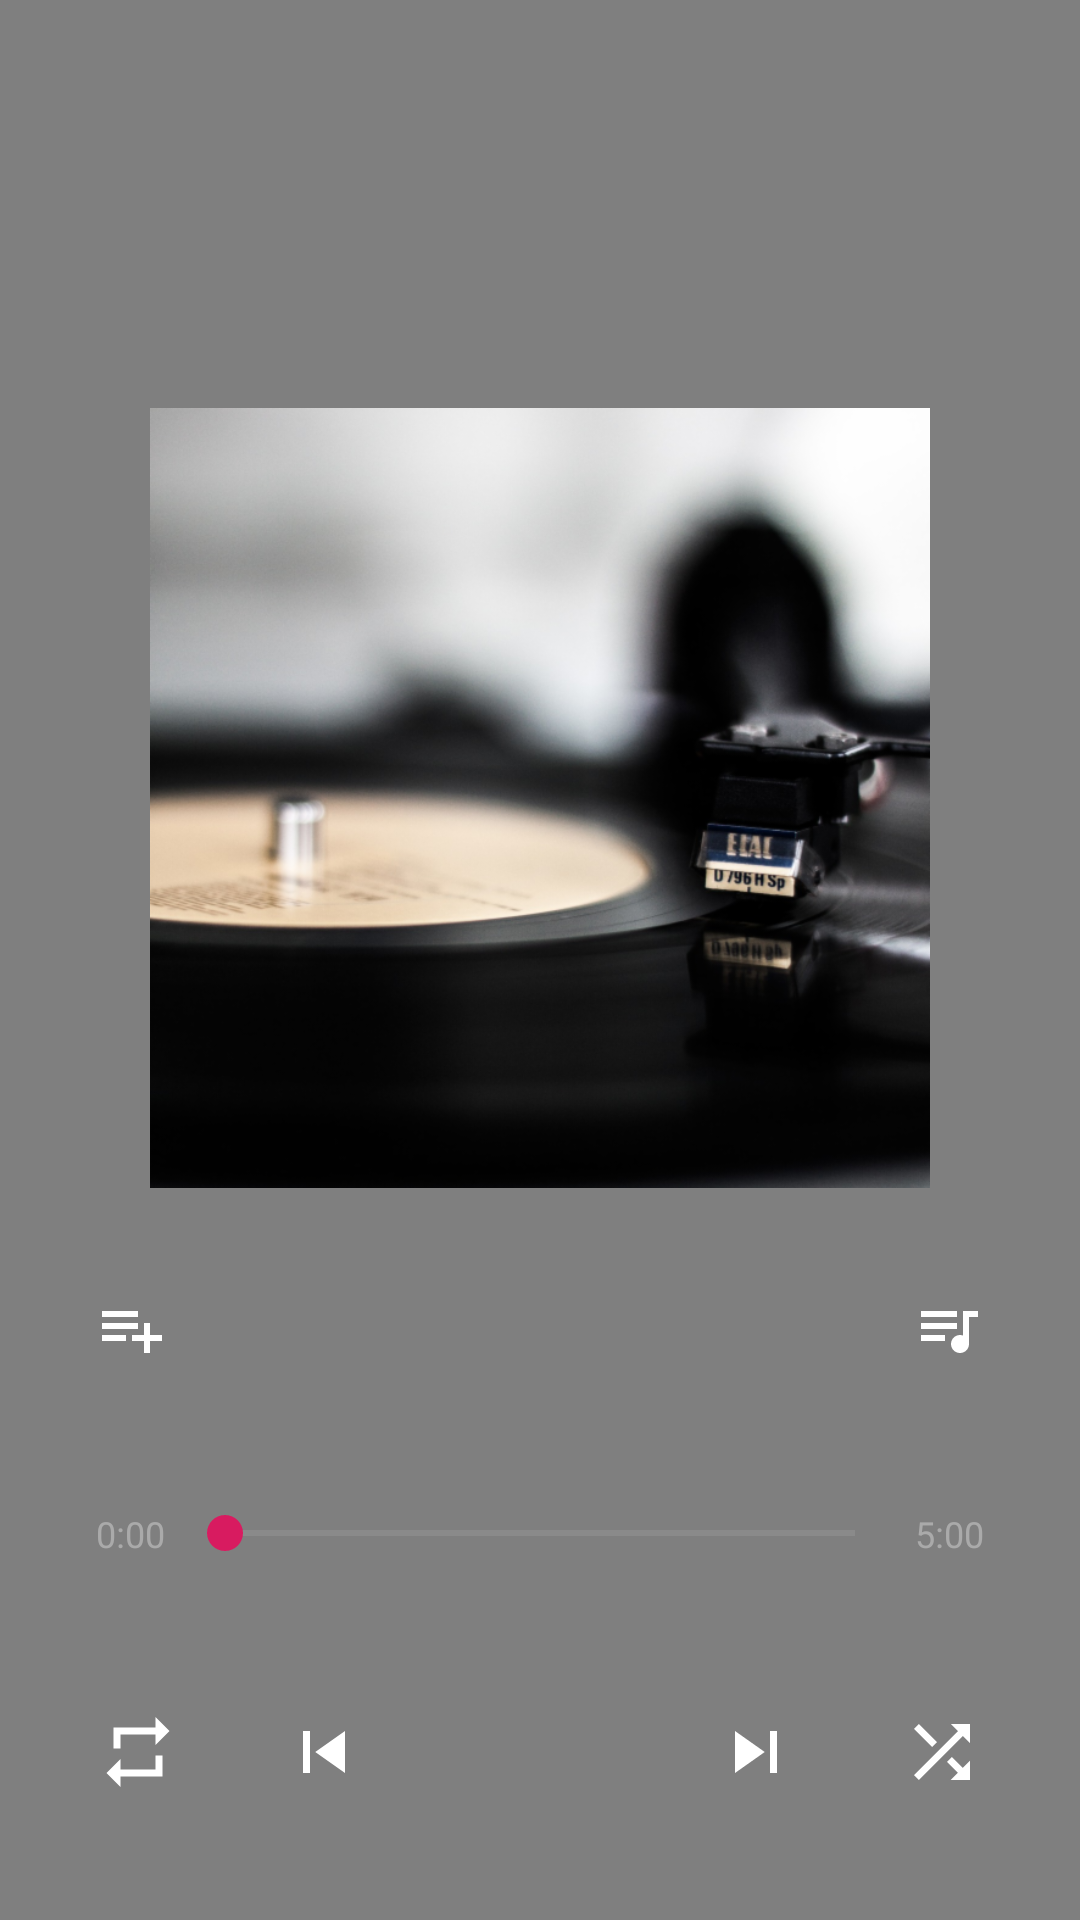

Icons on this 1080 × 1920 Android screen, each with its box as (x1, y1, x2, y2):
playlist add: (102, 1311, 162, 1353)
queue music: (921, 1311, 978, 1353)
repeat: (107, 1717, 169, 1787)
shuffle: (914, 1724, 970, 1780)
skip next: (735, 1731, 777, 1773)
skip previous: (303, 1731, 345, 1773)
